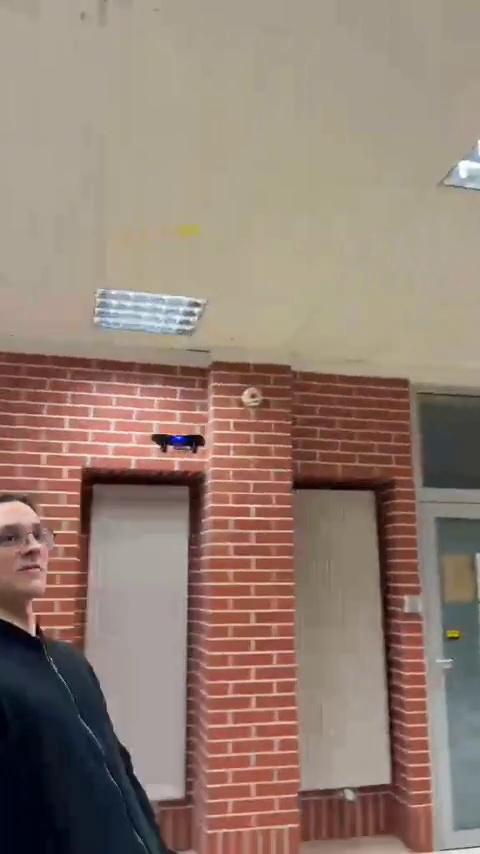drone: (144, 430, 209, 455)
no vest: (0, 493, 165, 854)
